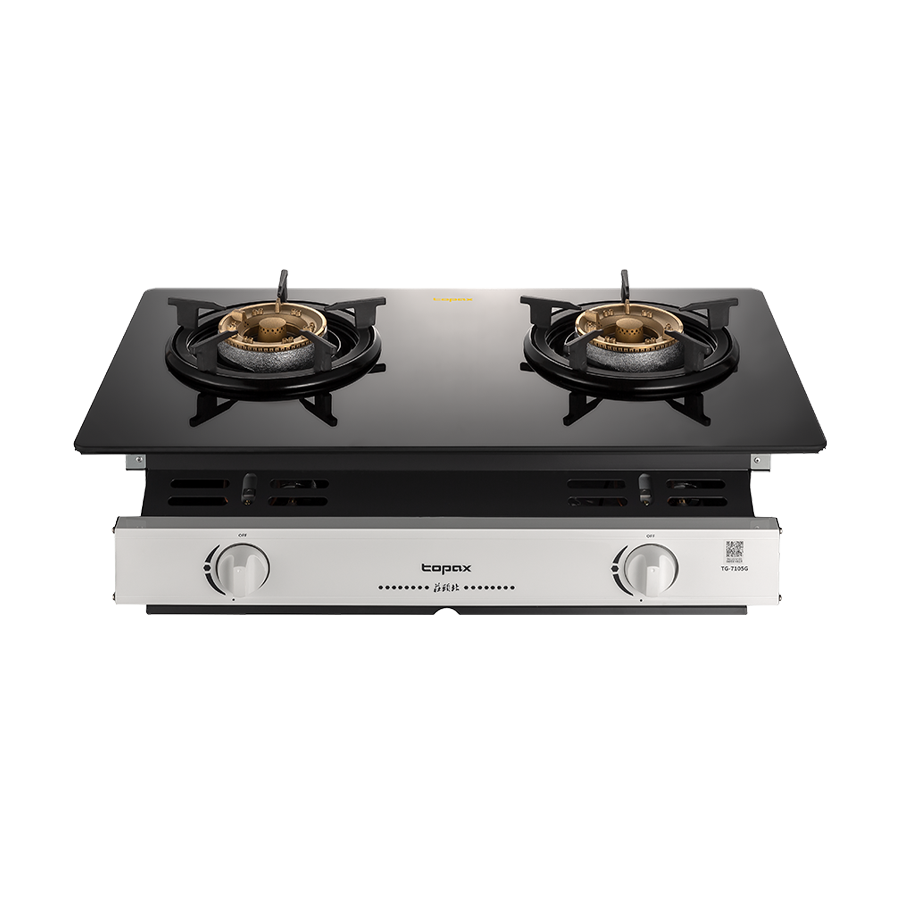gasoven: (70, 265, 832, 632)
